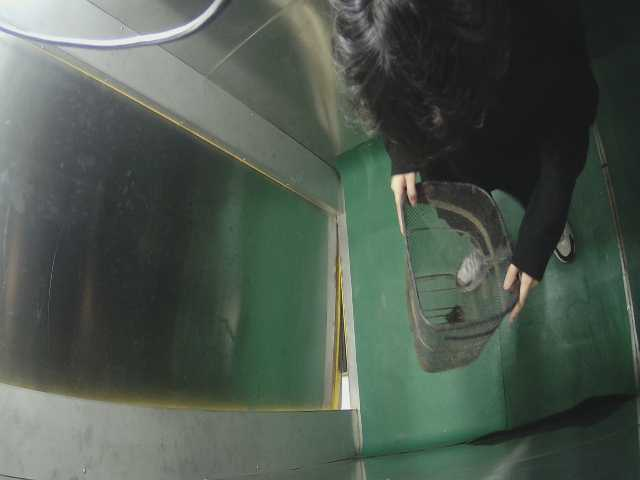person: (317, 1, 595, 274)
